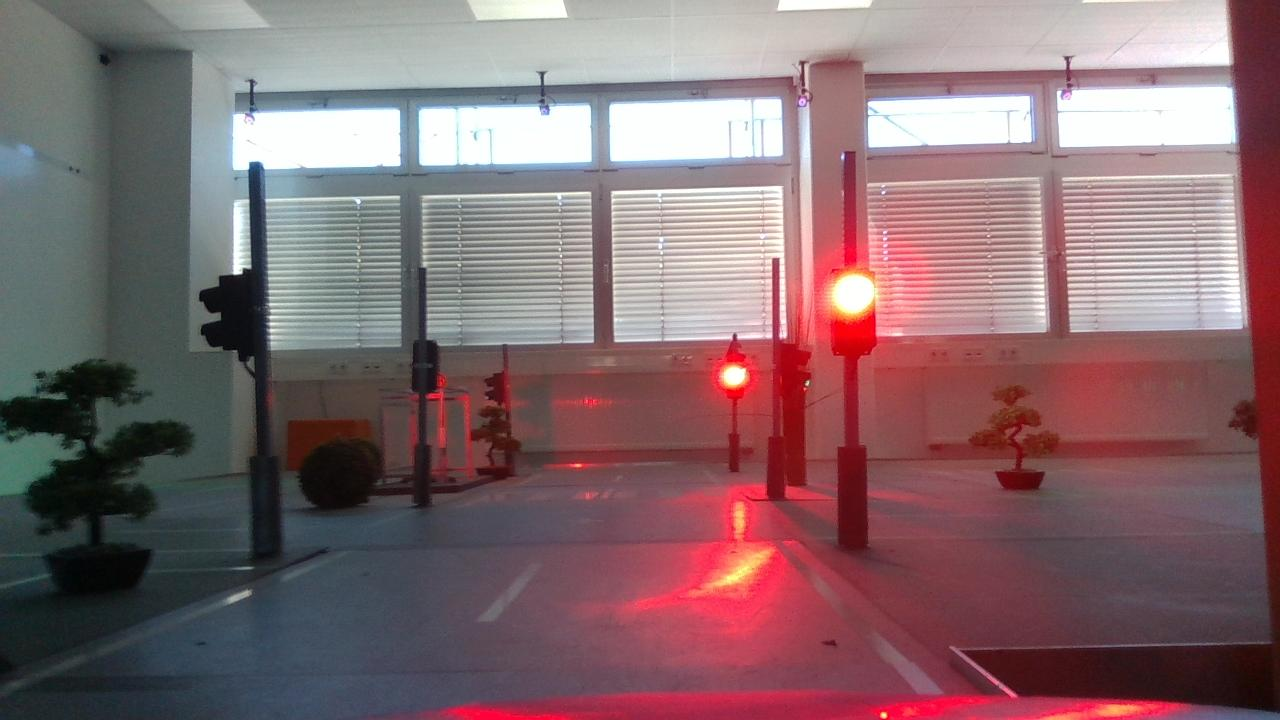traffic_light_red: (810, 249, 894, 371)
